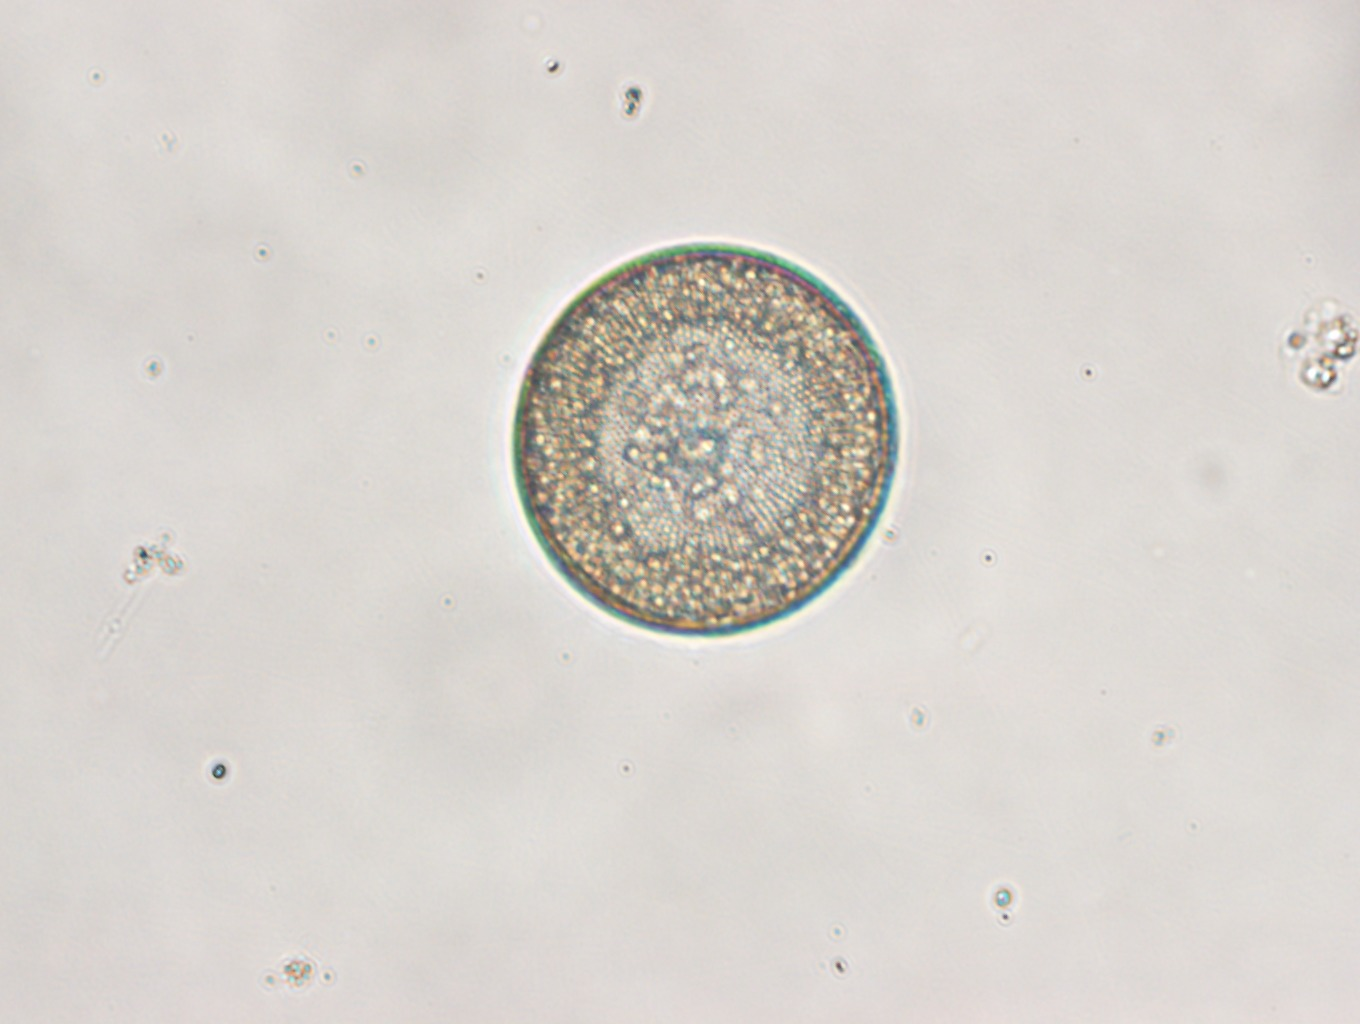coscinodiscus: (509, 239, 904, 637)
